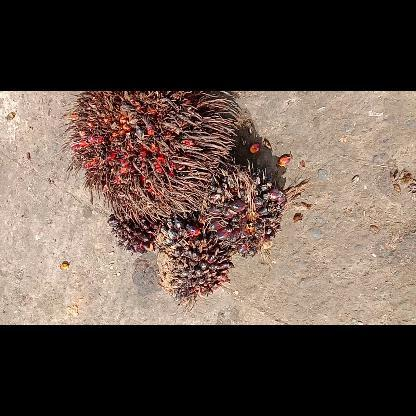TBS abnormal: (202, 164, 288, 260), (156, 217, 235, 303), (105, 208, 173, 256)
Terlalu masak: (56, 92, 244, 222)
